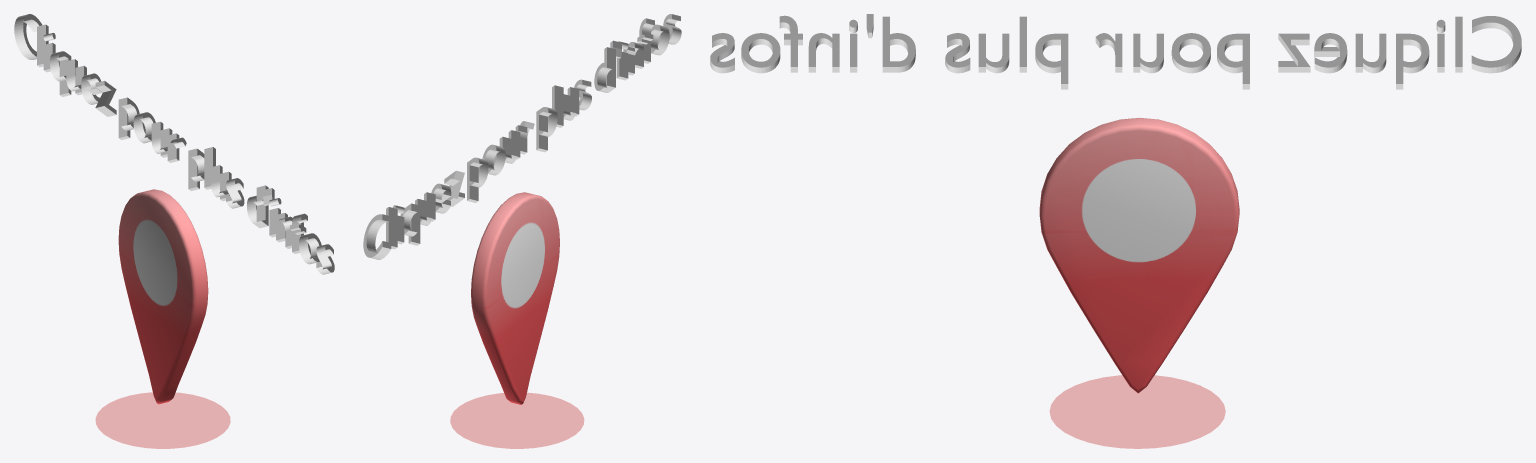
Rendered from point3D2_clique.gltf.
3 views of the same model, side by side, from view 1: azimuth 30°, elevation 25°; view 2: azimuth 150°, elevation 25°; view 3: azimuth 270°, elevation 25° (orthographic). The views are drawn at different scales.
Parts seen in each view (by area): view 1: Circle, Text; view 2: Circle, Text; view 3: Circle, Text.
Part boxes in pixels (bbox=[...]): Circle: bbox=[95, 189, 230, 448]; Text: bbox=[14, 14, 334, 274]; Circle: bbox=[450, 192, 584, 448]; Text: bbox=[363, 14, 681, 259]; Circle: bbox=[1039, 117, 1239, 448]; Text: bbox=[710, 14, 1521, 89].
Bounding box in the file's own units: 0.7825 × 1.94 × 3.6.
1 material, 1 textured.
